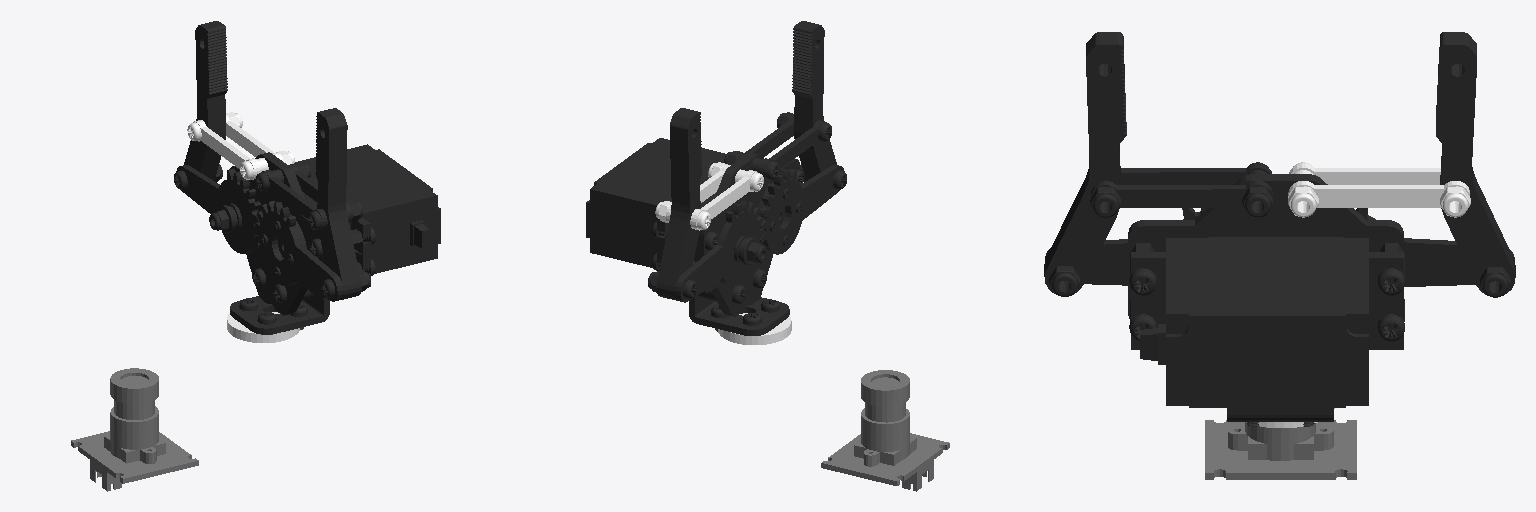
URDF robot description (dofbot_urdf):
<?xml version="1.0" encoding="utf-8"?>
<!-- This URDF was automatically created by SolidWorks to URDF Exporter! Originally created by Stephen Brawner (brawner@gmail.com) 
     Commit Version: 1.6.0-4-g7f85cfe  Build Version: 1.6.7995.38578
     For more information, please see http://wiki.ros.org/sw_urdf_exporter -->
<robot
  name="dofbot_urdf">
  <link
    name="base_link">
    <inertial>
      <origin
        xyz="-0.0671725207408564 -0.000682818575130278 0.0235555571599292"
        rpy="0 0 0" />
      <mass
        value="0.207144649879287" />
      <inertia
        ixx="0.000142619597229697"
        ixy="-1.10482574340839E-07"
        ixz="8.6806596191936E-08"
        iyy="0.000533205865295323"
        iyz="5.45781614925007E-09"
        izz="0.000672354696405165" />
    </inertial>
    <visual>
      <origin
        xyz="0 0 0"
        rpy="0 0 0" />
      <geometry>
        <mesh
          filename="meshes/base_link.STL" />
      </geometry>
      <material
        name="">
        <color
          rgba="1 1 1 1" />
      </material>
    </visual>
    <collision>
      <origin
        xyz="0 0 0"
        rpy="0 0 0" />
      <geometry>
        <mesh
          filename="meshes/base_link.STL" />
      </geometry>
    </collision>
  </link>
  <link
    name="arm1_Link">
    <inertial>
      <origin
        xyz="-8.49778790756084E-08 -4.40325277762924E-05 0.0101354918230124"
        rpy="0 0 0" />
      <mass
        value="0.0255348897264448" />
      <inertia
        ixx="4.16022285145201E-06"
        ixy="-2.80713724367593E-13"
        ixz="-3.43079515053372E-12"
        iyy="3.55254795252141E-06"
        iyz="3.70607689298624E-13"
        izz="6.0992720909704E-06" />
    </inertial>
    <visual>
      <origin
        xyz="0 0 0"
        rpy="0 0 0" />
      <geometry>
        <mesh
          filename="meshes/arm1_Link.STL" />
      </geometry>
      <material
        name="">
        <color
          rgba="1 0.827450980392157 0.0274509803921569 1" />
      </material>
    </visual>
    <collision>
      <origin
        xyz="0 0 0"
        rpy="0 0 0" />
      <geometry>
        <mesh
          filename="meshes/arm1_Link.STL" />
      </geometry>
    </collision>
  </link>
  <joint
    name="arm1_Joint"
    type="revolute">
    <origin
      xyz="0 0 0.0925"
      rpy="0 0 0" />
    <parent
      link="base_link" />
    <child
      link="arm1_Link" />
    <axis
      xyz="0 0 1" />
    <limit
      lower="-3.14"
      upper="3.14"
      effort="10"
      velocity="1000" />
  </joint>
  <link
    name="arm2_Link">
    <inertial>
      <origin
        xyz="-0.00332211289669114 -1.74375296132606E-07 0.0302895829102965"
        rpy="0 0 0" />
      <mass
        value="0.0533607267568293" />
      <inertia
        ixx="1.7717210562685E-05"
        ixy="-5.40200801846712E-09"
        ixz="-2.12148746838045E-08"
        iyy="1.40699396734973E-05"
        iyz="8.78824113171459E-08"
        izz="8.03378998422452E-06" />
    </inertial>
    <visual>
      <origin
        xyz="0 0 0"
        rpy="0 0 0" />
      <geometry>
        <mesh
          filename="meshes/arm2_Link.STL" />
      </geometry>
      <material
        name="">
        <color
          rgba="0.592156862745098 0.666666666666667 0.682352941176471 1" />
      </material>
    </visual>
    <collision>
      <origin
        xyz="0 0 0"
        rpy="0 0 0" />
      <geometry>
        <mesh
          filename="meshes/arm2_Link.STL" />
      </geometry>
    </collision>
  </link>
  <joint
    name="arm2_Joint"
    type="revolute">
    <origin
      xyz="0 5E-05 0.033"
      rpy="0 0 0" />
    <parent
      link="arm1_Link" />
    <child
      link="arm2_Link" />
    <axis
      xyz="0 1 0" />
    <limit
      lower="-3.14"
      upper="3.14"
      effort="10"
      velocity="1000" />
  </joint>
  <link
    name="arm3_Link">
    <inertial>
      <origin
        xyz="-0.00332225896427038 3.17361945736195E-05 0.0302895760180374"
        rpy="0 0 0" />
      <mass
        value="0.0533607267568292" />
      <inertia
        ixx="1.77172010049919E-05"
        ixy="-5.42357327207729E-09"
        ixz="-2.12150866104754E-08"
        iyy="1.40699493222638E-05"
        iyz="8.7882271077381E-08"
        izz="8.03378989315115E-06" />
    </inertial>
    <visual>
      <origin
        xyz="0 0 0"
        rpy="0 0 0" />
      <geometry>
        <mesh
          filename="meshes/arm3_Link.STL" />
      </geometry>
      <material
        name="">
        <color
          rgba="1 1 1 1" />
      </material>
    </visual>
    <collision>
      <origin
        xyz="0 0 0"
        rpy="0 0 0" />
      <geometry>
        <mesh
          filename="meshes/arm3_Link.STL" />
      </geometry>
    </collision>
  </link>
  <joint
    name="arm3_Joint"
    type="revolute">
    <origin
      xyz="0 0.00055 0.08285"
      rpy="0 0 0" />
    <parent
      link="arm2_Link" />
    <child
      link="arm3_Link" />
    <axis
      xyz="0 1 0" />
    <limit
      lower="-3.14"
      upper="3.14"
      effort="10"
      velocity="1000" />
  </joint>
  <link
    name="arm4_Link">
    <inertial>
      <origin
        xyz="-0.0043693716934713 0.000113237763816673 0.0344306558143757"
        rpy="0 0 0" />
      <mass
        value="0.071532146300964" />
      <inertia
        ixx="1.34948374836829E-05"
        ixy="1.57784132188437E-08"
        ixz="-9.39545385988221E-07"
        iyy="1.57466346583794E-05"
        iyz="8.24528057319377E-08"
        izz="9.65720051052439E-06" />
    </inertial>
    <visual>
      <origin
        xyz="0 0 0"
        rpy="0 0 0" />
      <geometry>
        <mesh
          filename="meshes/arm4_Link.STL" />
      </geometry>
      <material
        name="">
        <color
          rgba="1 1 1 1" />
      </material>
    </visual>
    <collision>
      <origin
        xyz="0 0 0"
        rpy="0 0 0" />
      <geometry>
        <mesh
          filename="meshes/arm4_Link.STL" />
      </geometry>
    </collision>
  </link>
  <joint
    name="arm4_Joint"
    type="revolute">
    <origin
      xyz="0 5E-05 0.08285"
      rpy="0 0 0" />
    <parent
      link="arm3_Link" />
    <child
      link="arm4_Link" />
    <axis
      xyz="0 1 0" />
    <limit
      lower="-3.14"
      upper="3.14"
      effort="10"
      velocity="1000" />
  </joint>
  <link
    name="arm5_Link">
    <inertial>
      <origin
        xyz="0.0145440488839958 -0.00226149528206224 0.0268567087331641"
        rpy="0 0 0" />
      <mass
        value="0.053298092532078" />
      <inertia
        ixx="9.40376383568825E-06"
        ixy="-1.65487651310489E-08"
        ixz="-2.34521491138951E-08"
        iyy="3.46227515722887E-06"
        iyz="2.46225928971174E-08"
        izz="7.64589757207327E-06" />
    </inertial>
    <visual>
      <origin
        xyz="0 0 0"
        rpy="0 0 0" />
      <geometry>
        <mesh
          filename="meshes/arm5_Link.STL" />
      </geometry>
      <material
        name="">
        <color
          rgba="0.223529411764706 0.223529411764706 0.223529411764706 1" />
      </material>
    </visual>
    <collision>
      <origin
        xyz="0 0 0"
        rpy="0 0 0" />
      <geometry>
        <mesh
          filename="meshes/arm5_Link.STL" />
      </geometry>
    </collision>
  </link>
  <joint
    name="arm5_Joint"
    type="revolute">
    <origin
      xyz="-0.00215 -4.5E-05 0.078149"
      rpy="0 0 0" />
    <parent
      link="arm4_Link" />
    <child
      link="arm5_Link" />
    <axis
      xyz="0 0 1" />
    <limit
      lower="-3.14"
      upper="3.14"
      effort="10"
      velocity="1000" />
  </joint>
  <link
    name="Rlink1_Link">
    <inertial>
      <origin
        xyz="0.00808925405555789 0.000355302033138827 -0.00146463568872787"
        rpy="0 0 0" />
      <mass
        value="0.00469661958338601" />
      <inertia
        ixx="1.02155647476641E-07"
        ixy="1.52485788234101E-08"
        ixz="-2.05741585338265E-14"
        iyy="4.52970928695837E-07"
        iyz="1.42658269271875E-14"
        izz="5.45544986931562E-07" />
    </inertial>
    <visual>
      <origin
        xyz="0 0 0"
        rpy="0 0 0" />
      <geometry>
        <mesh
          filename="meshes/Rlink1_Link.STL" />
      </geometry>
      <material
        name="">
        <color
          rgba="0.223529411764706 0.223529411764706 0.223529411764706 1" />
      </material>
    </visual>
    <collision>
      <origin
        xyz="0 0 0"
        rpy="0 0 0" />
      <geometry>
        <mesh
          filename="meshes/Rlink1_Link.STL" />
      </geometry>
    </collision>
  </link>
  <joint
    name="Rlink1_Joint"
    type="revolute">
    <origin
      xyz="-0.00575 -0.012625 0.029275"
      rpy="1.5708 0.011933 -1.5708" />
    <parent
      link="arm5_Link" />
    <child
      link="Rlink1_Link" />
    <axis
      xyz="0 0 1" />
  <limit lower="0" upper="3.14" effort="10" velocity="1000" />
  </joint>
  <link
    name="Rlink2_Link">
    <inertial>
      <origin
        xyz="0.022614380021305 0.00597939681572741 -0.00499999999999777"
        rpy="0 0 0" />
      <mass
        value="0.00614487297102989" />
      <inertia
        ixx="8.32301091305635E-08"
        ixy="-2.30477477105635E-07"
        ixz="-4.54892428186909E-21"
        iyy="1.50200292820993E-06"
        iyz="-6.94421063745367E-22"
        izz="1.57601572788395E-06" />
    </inertial>
    <visual>
      <origin
        xyz="0 0 0"
        rpy="0 0 0" />
      <geometry>
        <mesh
          filename="meshes/Rlink2_Link.STL" />
      </geometry>
      <material
        name="">
        <color
          rgba="0.223529411764706 0.223529411764706 0.223529411764706 1" />
      </material>
    </visual>
    <collision>
      <origin
        xyz="0 0 0"
        rpy="0 0 0" />
      <geometry>
        <mesh
          filename="meshes/Rlink2_Link.STL" />
      </geometry>
    </collision>
  </link>
  <joint
    name="Rlink2_Joint"
    type="revolute">
    <origin
      xyz="0.03 0 0"
      rpy="0 0 1.5827" />
    <parent
      link="Rlink1_Link" />
    <child
      link="Rlink2_Link" />
    <axis
      xyz="0 0 1" />
  <limit lower="-1.57" upper="0" effort="10" velocity="1000" />

  </joint>
  <link
    name="Llink1_Link">
    <inertial>
      <origin
        xyz="0.00884602442511364 -0.000341818475715405 -0.00141945590833569"
        rpy="0 0 0" />
      <mass
        value="0.00426700651570001" />
      <inertia
        ixx="8.84337267601555E-08"
        ixy="-1.30951625021893E-08"
        ixz="2.13036565376522E-14"
        iyy="4.55512078723298E-07"
        iyz="1.30500779324897E-14"
        izz="5.36665523754321E-07" />
    </inertial>
    <visual>
      <origin
        xyz="0 0 0"
        rpy="0 0 0" />
      <geometry>
        <mesh
          filename="meshes/Llink1_Link.STL" />
      </geometry>
      <material
        name="">
        <color
          rgba="0.223529411764706 0.223529411764706 0.223529411764706 1" />
      </material>
    </visual>
    <collision>
      <origin
        xyz="0 0 0"
        rpy="0 0 0" />
      <geometry>
        <mesh
          filename="meshes/Llink1_Link.STL" />
      </geometry>
    </collision>
  </link>
  <joint
    name="Llink1_Joint"
    type="revolute">
    <origin
      xyz="-0.00575 0.012375 0.029275"
      rpy="-1.5708 0.012847 1.5708" />
    <parent
      link="arm5_Link" />
    <child
      link="Llink1_Link" />
    <axis
      xyz="0 0 1" />
<limit lower="-3.14" upper="0" effort="10" velocity="1000" />
  </joint>
  <link
    name="Llink2_Link">
    <inertial>
      <origin
        xyz="0.0226939614034447 -0.00566987529374317 -0.00524999999999783"
        rpy="0 0 0" />
      <mass
        value="0.00614487297102989" />
      <inertia
        ixx="7.71978365784681E-08"
        ixy="2.11009608327784E-07"
        ixz="-5.53433747283028E-21"
        iyy="1.50803520076203E-06"
        iyz="7.91779602301009E-22"
        izz="1.57601572788395E-06" />
    </inertial>
    <visual>
      <origin
        xyz="0 0 0"
        rpy="0 0 0" />
      <geometry>
        <mesh
          filename="meshes/Llink2_Link.STL" />
      </geometry>
      <material
        name="">
        <color
          rgba="0.223529411764706 0.223529411764706 0.223529411764706 1" />
      </material>
    </visual>
    <collision>
      <origin
        xyz="0 0 0"
        rpy="0 0 0" />
      <geometry>
        <mesh
          filename="meshes/Llink2_Link.STL" />
      </geometry>
    </collision>
  </link>
  <joint
    name="Llink2_Joint"
    type="revolute">
    <origin
      xyz="0.03 0 0"
      rpy="0 0 -1.5836" />
    <parent
      link="Llink1_Link" />
    <child
      link="Llink2_Link" />
    <axis
      xyz="0 0 1" />
  <limit lower="0" upper="3.14" effort="10" velocity="1000" />

  </joint>
  <link
    name="Rlink3_Link">
    <inertial>
      <origin
        xyz="0.0147913116377555 -1.38777878078145E-15 -0.00371410065787813"
        rpy="0 0 0" />
      <mass
        value="0.00270971831665519" />
      <inertia
        ixx="9.18474957357152E-09"
        ixy="-2.25103656685071E-18"
        ixz="-7.64276287681181E-23"
        iyy="1.63607734898409E-07"
        iyz="6.56852653359526E-23"
        izz="1.63254833713166E-07" />
    </inertial>
    <visual>
      <origin
        xyz="0 0 0"
        rpy="0 0 0" />
      <geometry>
        <mesh
          filename="meshes/Rlink3_Link.STL" />
      </geometry>
      <material
        name="">
        <color
          rgba="0.223529411764706 0.223529411764706 0.223529411764706 1" />
      </material>
    </visual>
    <collision>
      <origin
        xyz="0 0 0"
        rpy="0 0 0" />
      <geometry>
        <mesh
          filename="meshes/Rlink3_Link.STL" />
      </geometry>
    </collision>
  </link>
  <joint
    name="Rlink3_Joint"
    type="revolute">
    <origin
      xyz="-0.0055 -0.0045 0.047275"
      rpy="1.5708 0.0027284 -1.5708" />
    <parent
      link="arm5_Link" />
    <child
      link="Rlink3_Link" />
    <axis
      xyz="0 0 1" />
 <limit lower="0" upper="3.14" effort="10" velocity="1000" />
  </joint>
  <link
    name="Llink3_Link">
    <inertial>
      <origin
        xyz="0.0147913116377538 -5.27355936696949E-15 -0.00371410065787809"
        rpy="0 0 0" />
      <mass
        value="0.0027097183166552" />
      <inertia
        ixx="9.18474957355926E-09"
        ixy="-2.24946462119074E-18"
        ixz="6.6358106426023E-24"
        iyy="1.63607734898422E-07"
        iyz="-7.31614091398112E-23"
        izz="1.63254833713166E-07" />
    </inertial>
    <visual>
      <origin
        xyz="0 0 0"
        rpy="0 0 0" />
      <geometry>
        <mesh
          filename="meshes/Llink3_Link.STL" />
      </geometry>
      <material
        name="">
        <color
          rgba="1 1 1 1" />
      </material>
    </visual>
    <collision>
      <origin
        xyz="0 0 0"
        rpy="0 0 0" />
      <geometry>
        <mesh
          filename="meshes/Llink3_Link.STL" />
      </geometry>
    </collision>
  </link>
  <joint
    name="Llink3_Joint"
    type="revolute">
    <origin
      xyz="-0.0055 0.0045 0.047275"
      rpy="-1.5708 0 1.5708" />
    <parent
      link="arm5_Link" />
    <child
      link="Llink3_Link" />
    <axis
      xyz="0 0 1" />
 <limit lower="-3.14" upper="0" effort="10" velocity="1000" />
  </joint>
  <link
    name="Camera_Link">
    <inertial>
      <origin
        xyz="-0.000158501191868679 -1.59900067031945E-05 -0.0153773115270476"
        rpy="0 0 0" />
      <mass
        value="0.00460026193758493" />
      <inertia
        ixx="3.96711567130701E-07"
        ixy="2.43787279241472E-24"
        ixz="2.6346028083169E-11"
        iyy="3.63231530390156E-07"
        iyz="2.44208064259197E-13"
        izz="2.32159379073315E-07" />
    </inertial>
    <visual>
      <origin
        xyz="0 0 0"
        rpy="0 0 0" />
      <geometry>
        <mesh
          filename="meshes/Camera_Link.STL" />
      </geometry>
      <material
        name="">
        <color
          rgba="0.525490196078431 0.525490196078431 0.525490196078431 1" />
      </material>
    </visual>
    <collision>
      <origin
        xyz="0 0 0"
        rpy="0 0 0" />
      <geometry>
        <mesh
          filename="meshes/Camera_Link.STL" />
      </geometry>
    </collision>
  </link>
  <joint
    name="Camera_Joint"
    type="fixed">
    <origin
      xyz="-0.0481 -5E-05 0.0707"
      rpy="0 0 0" />
    <parent
      link="arm4_Link" />
    <child
      link="Camera_Link" />
    <axis
      xyz="0 0 0" />
  </joint>
  <link
    name="Gripping_point_Link">
    <inertial>
      <origin
        xyz="-0.0683402041645385 -0.000142703592025373 -0.000499703582286574"
        rpy="0 0 0" />
      <mass
        value="0.00195957296202558" />
      <inertia
        ixx="1.08651508425162E-07"
        ixy="-9.77366706543247E-15"
        ixz="-1.57858328556942E-13"
        iyy="5.69602645978005E-08"
        iyz="-4.25237783115111E-13"
        izz="5.69617199931382E-08" />
    </inertial>
    <visual>
      <origin
        xyz="0 0 0"
        rpy="0 0 0" />
      <geometry>
        <mesh
          filename="meshes/Gripping_Link.STL" />
      </geometry>
      <material
        name="">
        <color
          rgba="1 1 1 1" />
      </material>
    </visual>
    <collision>
      <origin
        xyz="0 0 0"
        rpy="0 0 0" />
      <geometry>
        <mesh
          filename="meshes/Gripping_Link.STL" />
      </geometry>
    </collision>
  </link>
  <joint
    name="Gripping_Joint"
    type="fixed">
    <origin
      xyz="-0.00265 9.7552E-05 0.068091"
      rpy="3.1416 -1.5708 0" />
    <parent
      link="arm5_Link" />
    <child
      link="Gripping_point_Link" />
    <axis
      xyz="0 0 0" />
  </joint>
</robot>

--- What the picture shows (computed from the rendered views, not written in the file) ---
Views: 3 orthographic renders of the robot side by side, from view 1: azimuth 30°, elevation 25°; view 2: azimuth 150°, elevation 25°; view 3: azimuth 270°, elevation 25°.
Robot: dofbot_urdf — 14 links, 13 joints (11 revolute, 2 fixed); root link base_link; default pose: every joint at zero.
Links seen in each view (by area): view 1: arm5_Link, Camera_Link, Rlink2_Link, Rlink1_Link, Llink1_Link, Llink2_Link, Llink3_Link, Rlink3_Link, Gripping_point_Link; view 2: arm5_Link, Camera_Link, Llink2_Link, Llink1_Link, Rlink1_Link, Rlink2_Link, Rlink3_Link, Llink3_Link, Gripping_point_Link; view 3: arm5_Link, Rlink2_Link, Llink2_Link, Camera_Link, Llink3_Link, Rlink3_Link, Llink1_Link, Rlink1_Link.
Link boxes in pixels (x1,y1,x2,y2): arm5_Link: (230, 144, 440, 334); Camera_Link: (71, 368, 198, 491); Rlink2_Link: (315, 108, 361, 299); Rlink1_Link: (254, 201, 370, 301); Llink1_Link: (174, 164, 260, 253); Llink2_Link: (184, 21, 227, 180); Llink3_Link: (187, 112, 294, 179); Rlink3_Link: (256, 162, 362, 229); Gripping_point_Link: (227, 312, 299, 342); arm5_Link: (586, 138, 803, 335); Camera_Link: (821, 370, 949, 491); Llink2_Link: (656, 108, 701, 300); Llink1_Link: (648, 201, 766, 302); Rlink1_Link: (758, 165, 846, 254); Rlink2_Link: (792, 21, 836, 180); Rlink3_Link: (724, 112, 831, 179); Llink3_Link: (655, 162, 763, 230); Gripping_point_Link: (718, 313, 791, 344); arm5_Link: (1128, 174, 1404, 426); Rlink2_Link: (1044, 32, 1126, 294); Llink2_Link: (1436, 32, 1515, 294); Camera_Link: (1205, 420, 1356, 479); Llink3_Link: (1288, 162, 1470, 217); Rlink3_Link: (1090, 162, 1272, 217); Llink1_Link: (1356, 208, 1514, 297); Rlink1_Link: (1045, 208, 1206, 296).
Size in the robot's own frame: 0.1008 by 0.093 by 0.1177 metres.
9 mesh visuals loaded from 14 distinct referenced files (9 binary STL); not drawn: 5 (reference not matched to a file when rendering).
